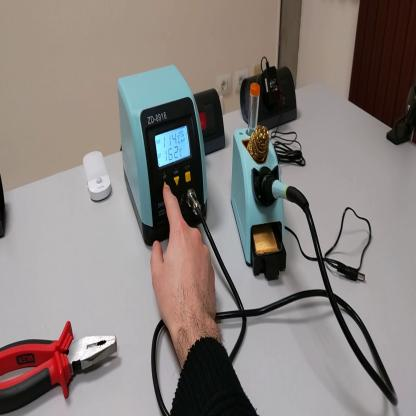hand: (152, 185, 218, 333)
pliers: (2, 318, 119, 413)
socket: (241, 60, 298, 132), (193, 86, 229, 156)
welder base: (232, 84, 290, 283)
welder probe tip: (257, 167, 311, 213)
welder station: (118, 63, 209, 245)
